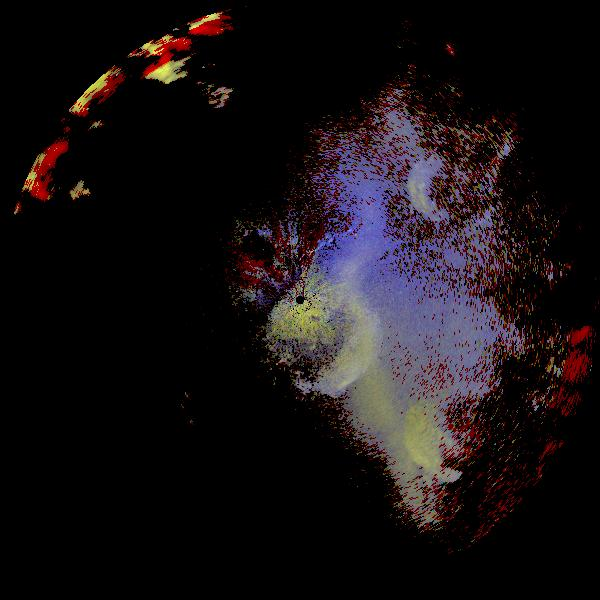roost: (230, 252, 407, 429), (380, 370, 527, 517), (388, 118, 517, 247)
